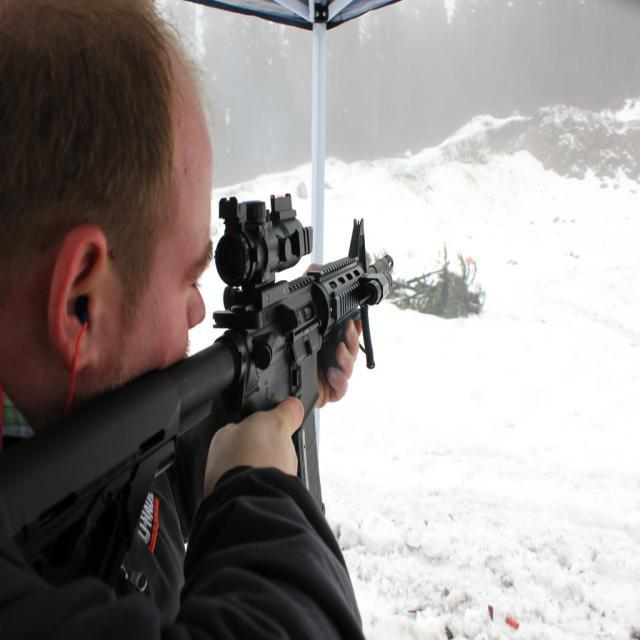weapon: (0, 192, 394, 600)
